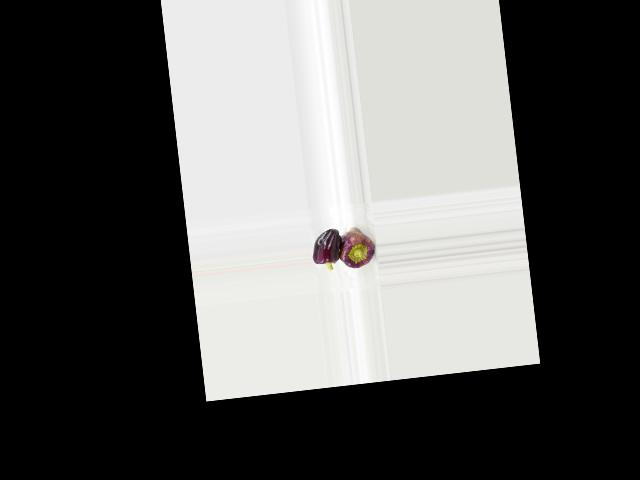bell_pepper: (334, 217, 378, 278)
